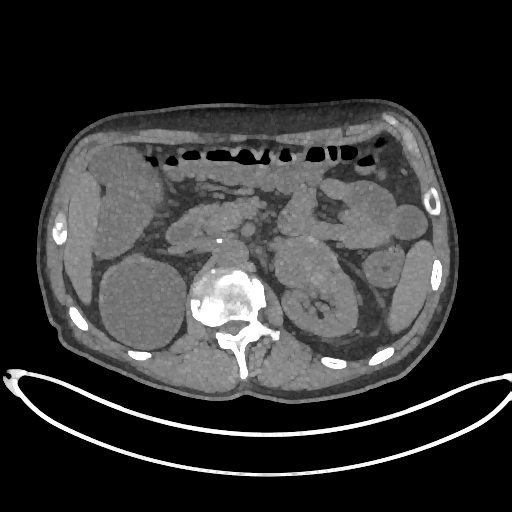Lesion: (268, 232, 344, 292)
